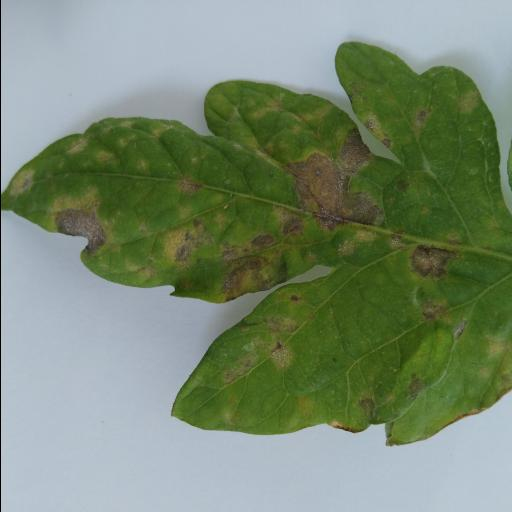disease_tomato: (0, 42, 512, 450)
